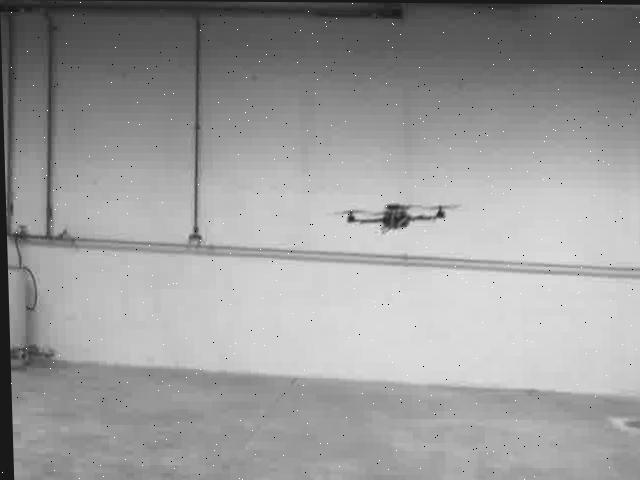drone: (335, 195, 448, 238)
